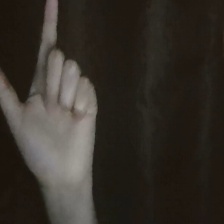L: (1, 1, 104, 189)
